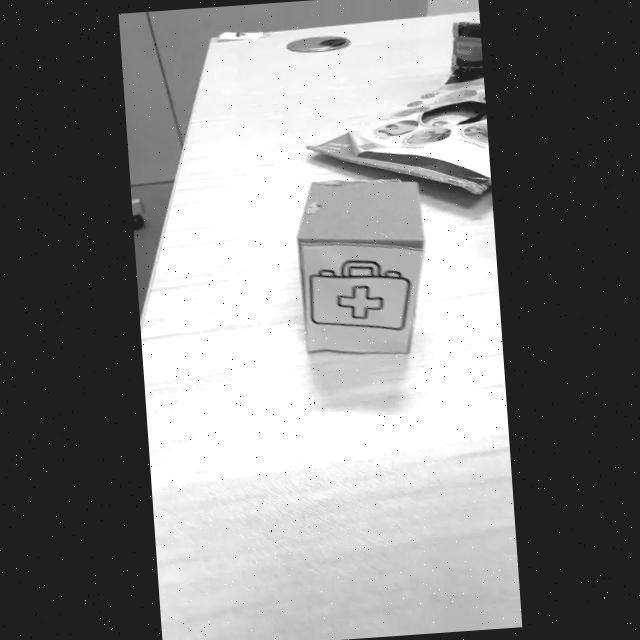Medkit: (303, 253, 412, 335)
